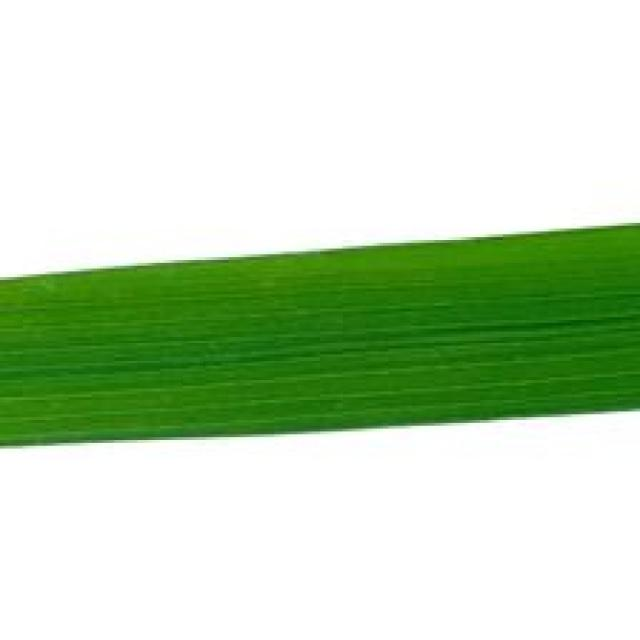Rice___Healthy_Rice_Plant: (0, 225, 637, 446)
